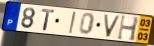0: (79, 12, 96, 36)
8: (21, 7, 37, 30)
H: (116, 14, 141, 43)
I: (68, 11, 77, 35)
T: (41, 8, 57, 32)
V: (103, 14, 123, 39)
